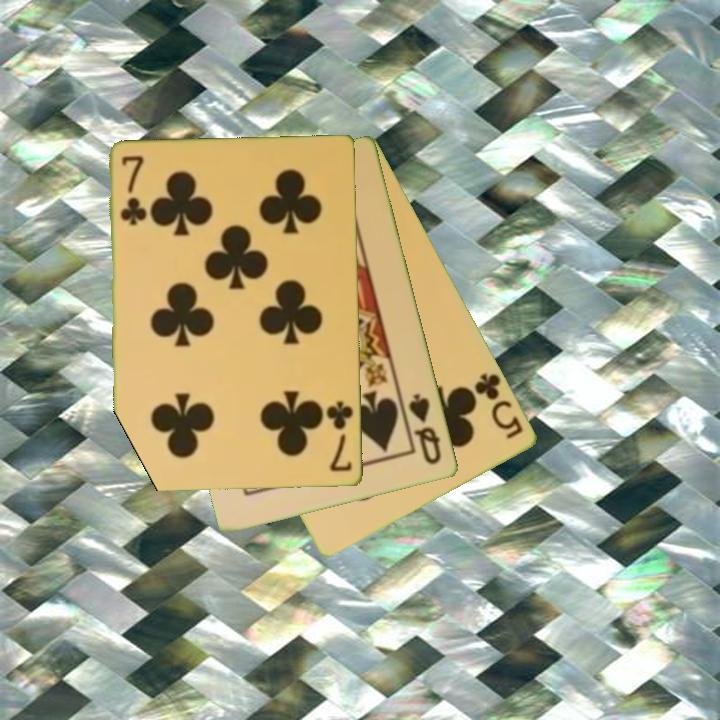5c: (471, 370, 526, 442)
7c: (323, 398, 356, 476), (117, 152, 147, 229)
Qs: (405, 390, 445, 468)
